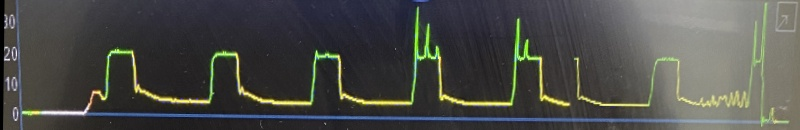hydrop_pressure: (406, 7, 564, 122)
normal_pressure: (91, 39, 388, 116)
